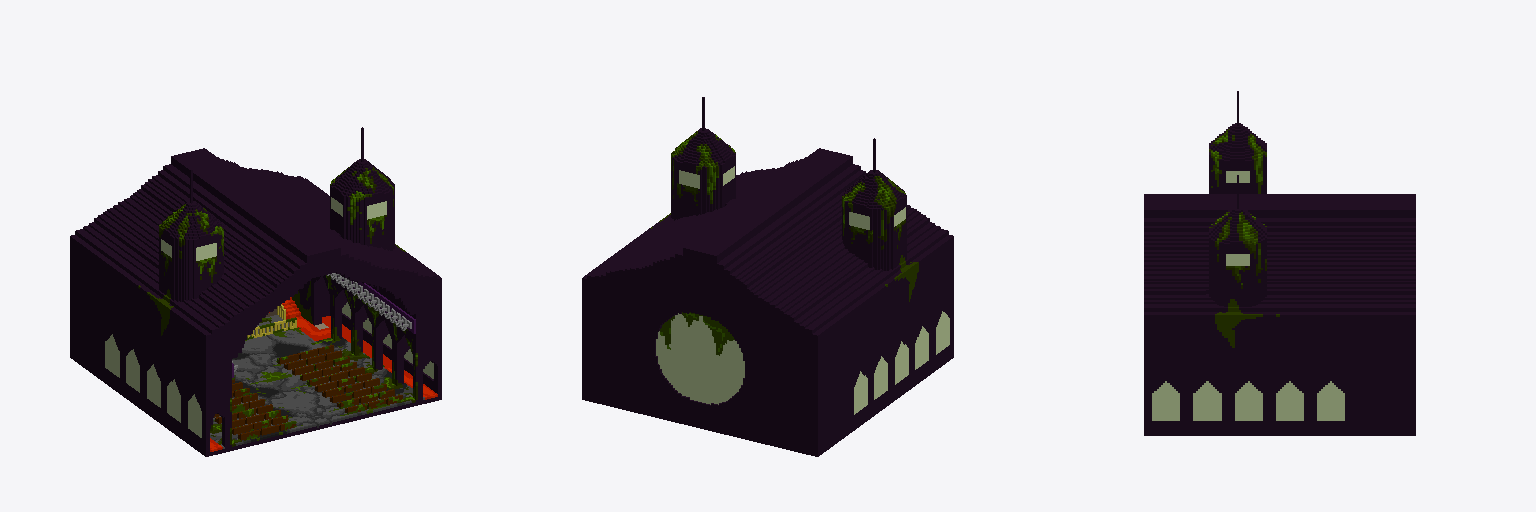
3 renders of one model, left to right at view 1: azimuth 30°, elevation 25°; view 2: azimuth 150°, elevation 25°; view 3: azimuth 270°, elevation 25°, orthographic.
Size of the model in its own units: 126 by 125 by 126.
Materials: 1 (1 with a texture image).